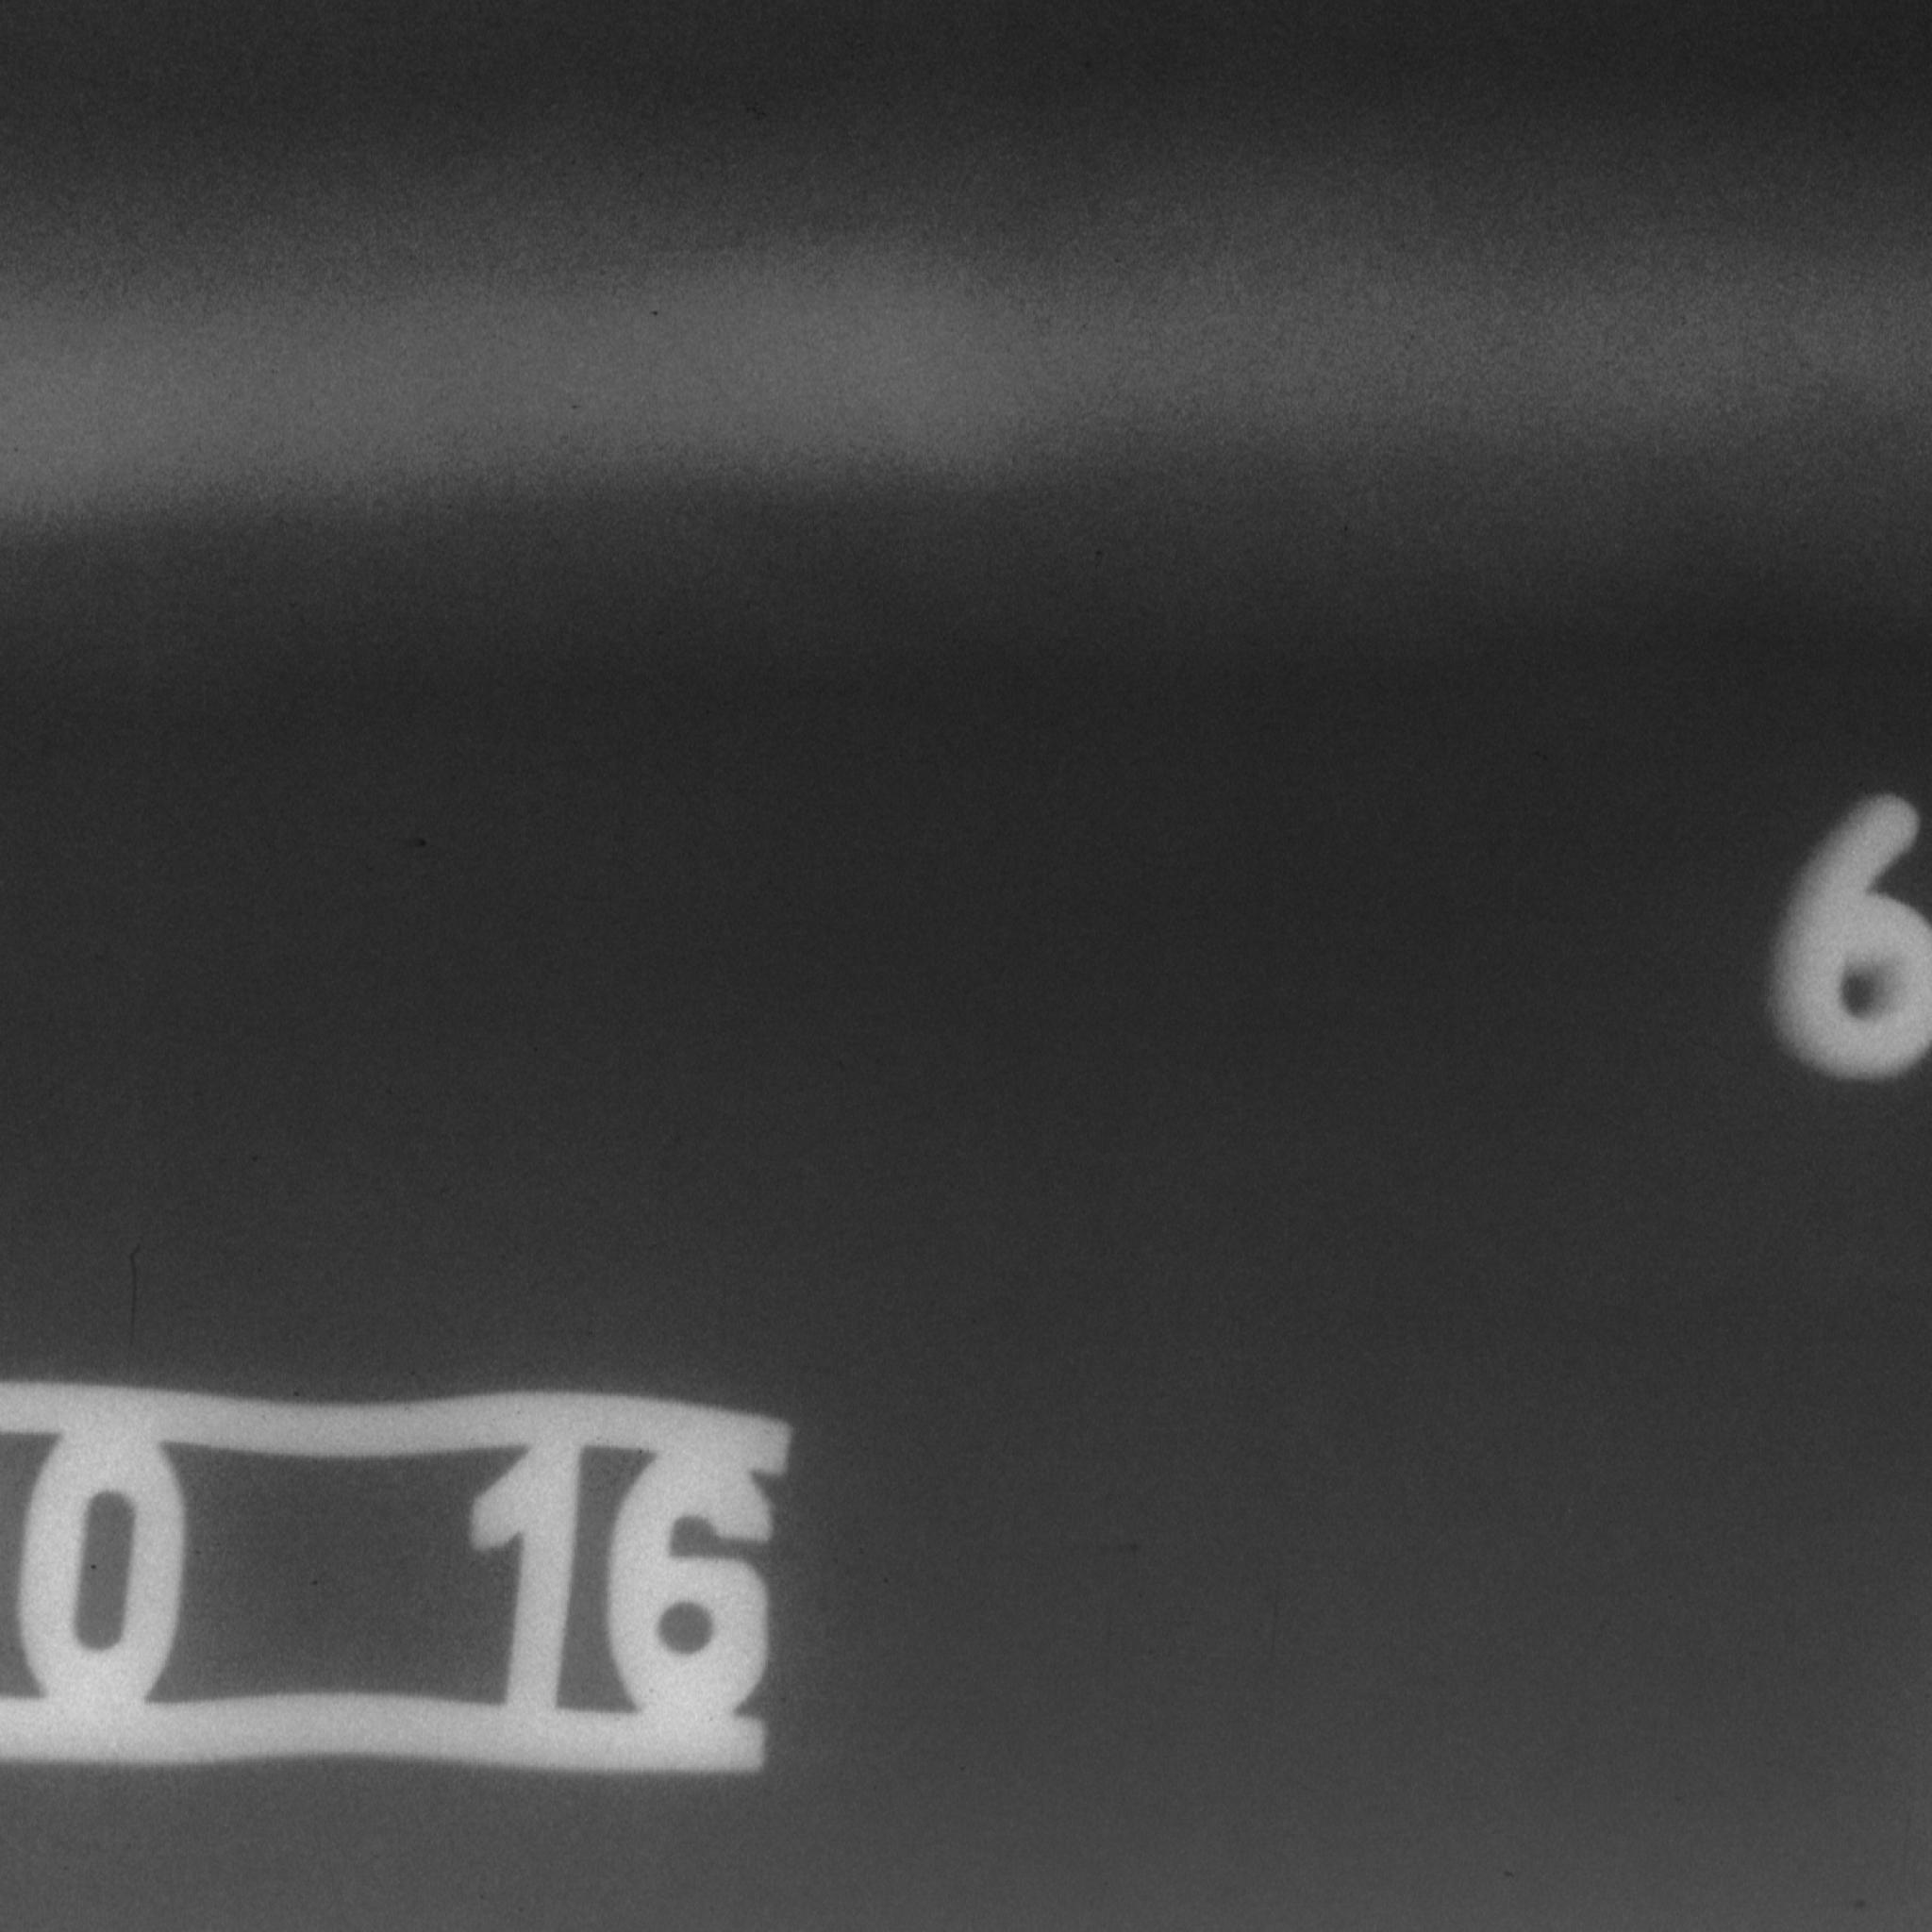PO: (393, 805, 451, 876), (552, 382, 594, 432), (1081, 534, 1116, 573), (640, 294, 676, 331), (1334, 513, 1362, 548), (1532, 747, 1543, 761)
